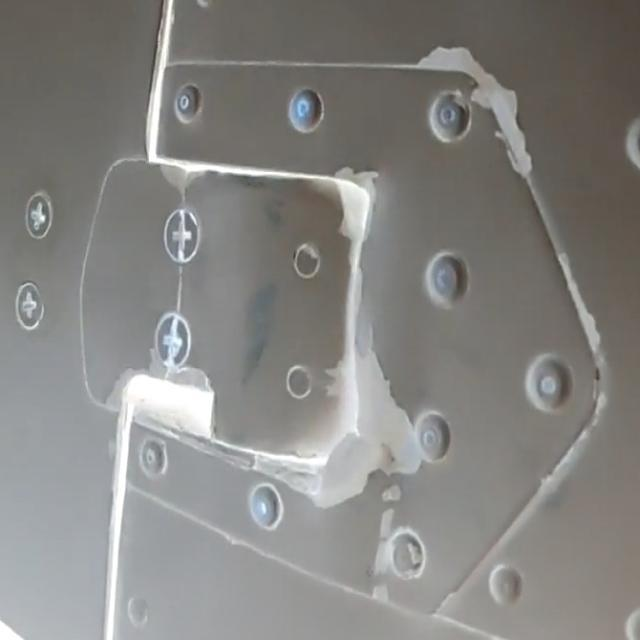crack: (160, 267, 200, 321)
